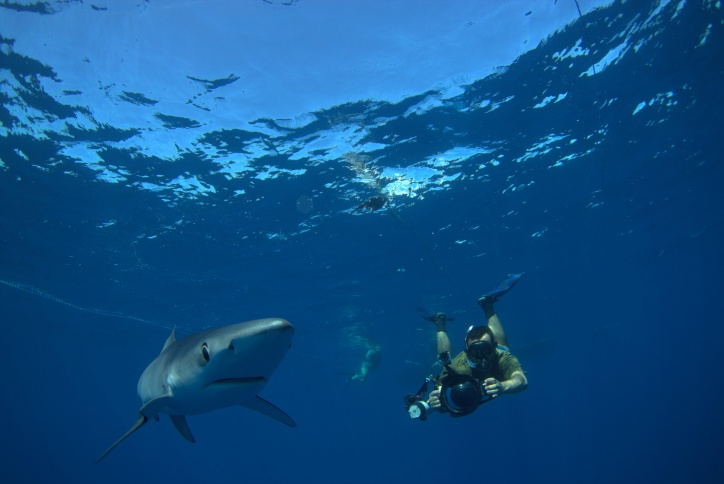Azul: (81, 296, 299, 484)
